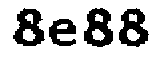8: (117, 3, 150, 53), (11, 5, 44, 50), (83, 5, 115, 50)
e: (45, 14, 82, 50)
